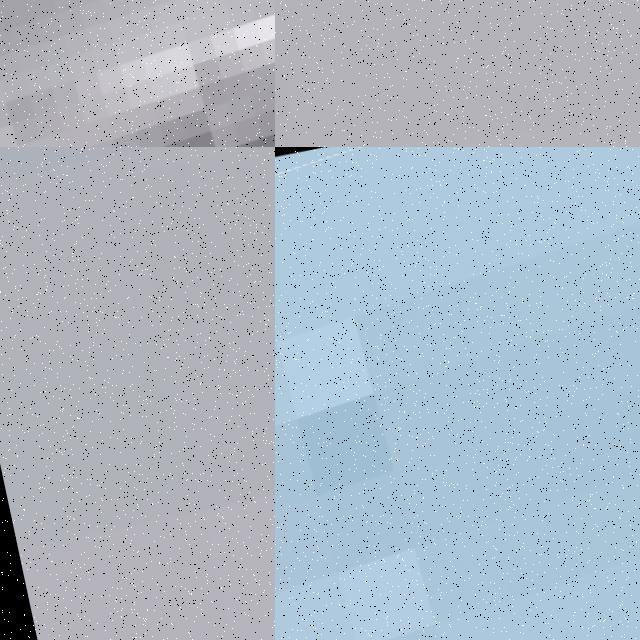0: (0, 0, 275, 147)
drone: (275, 147, 640, 640)
